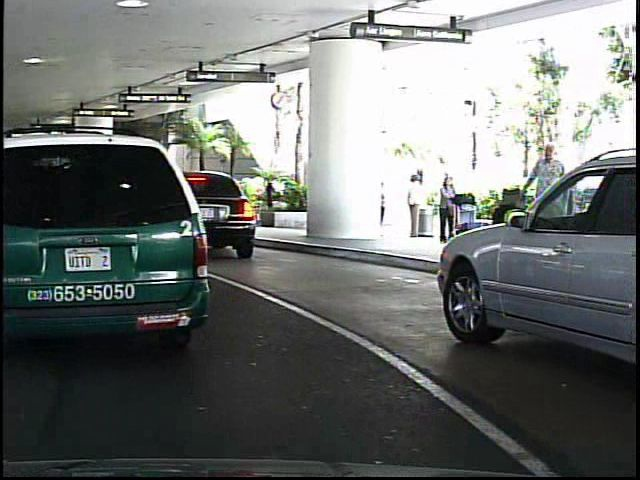person: (517, 134, 573, 278), (430, 170, 460, 244)
